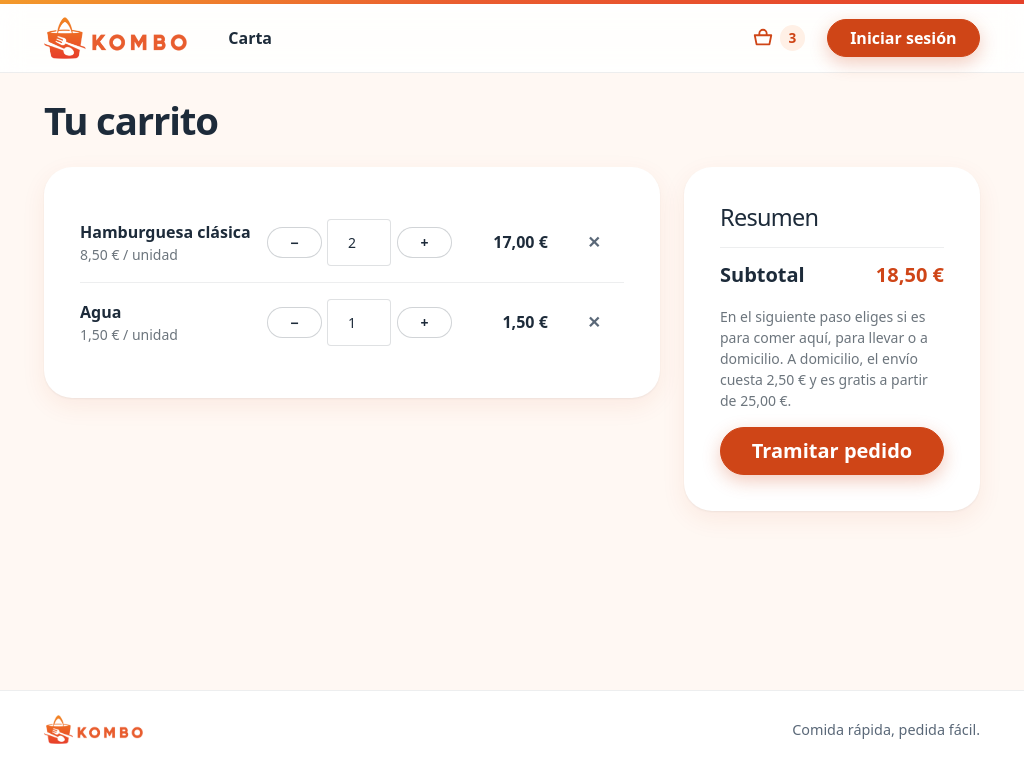
it: CartPage › changes the units and removes products, updating the subtotal
Expected: the text "gratis a partir de" is shown, left=720, top=370, right=928, bottom=410
Step 1. Click the button named "Añadir una unidad de Hamburguesa clásica" → click(424, 242), box left=397, top=227, right=452, bottom=258
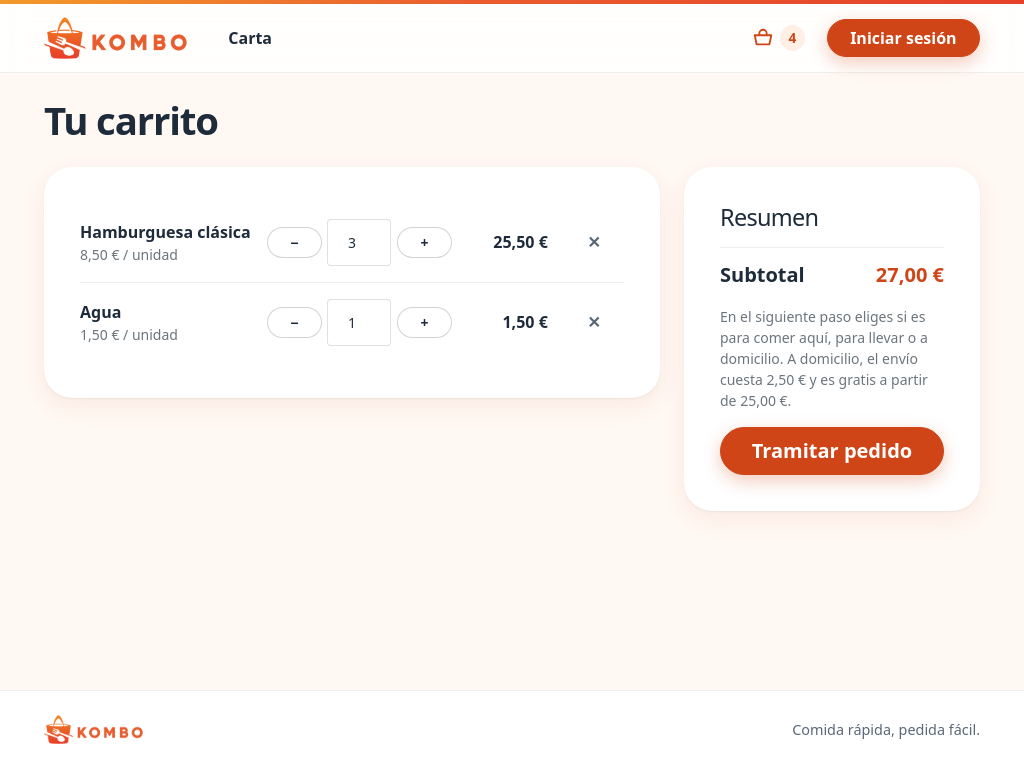
Now the text with test id "cart-count" reads "4", box left=788, top=28, right=796, bottom=47
Step 2. Replace the text in the number field named "Unidades de Agua" with "5" → (359, 322), box left=327, top=299, right=391, bottom=346
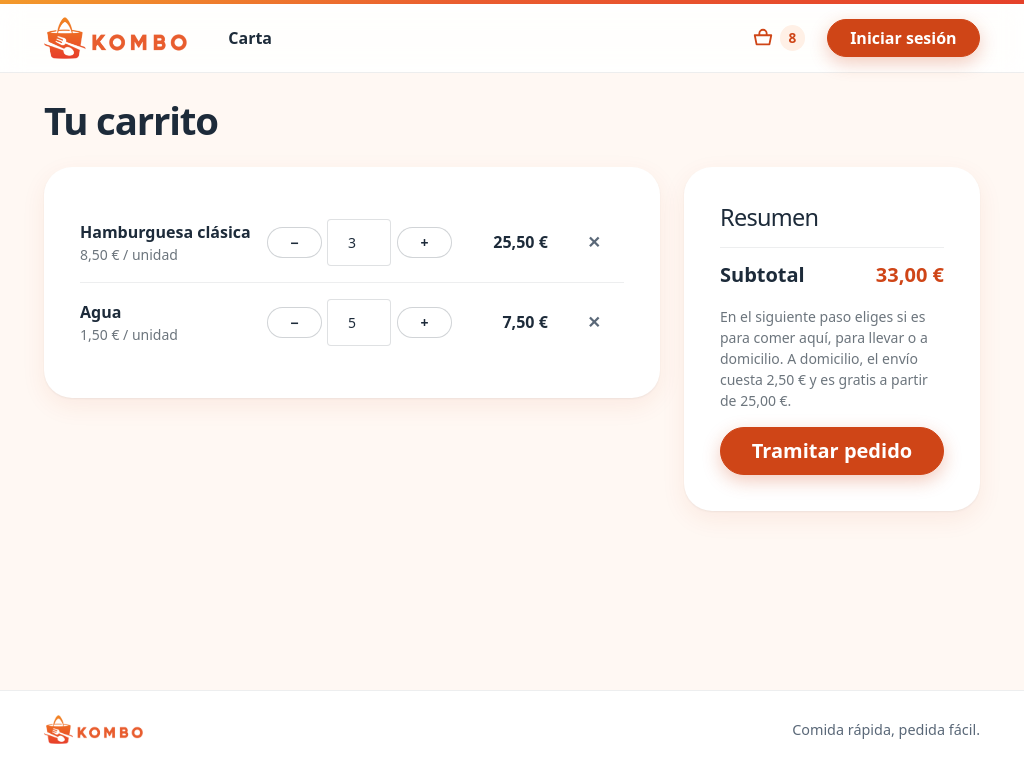
Step 3. Click the button named "Quitar una unidad de Hamburguesa clásica" → click(294, 242), box left=267, top=227, right=322, bottom=258
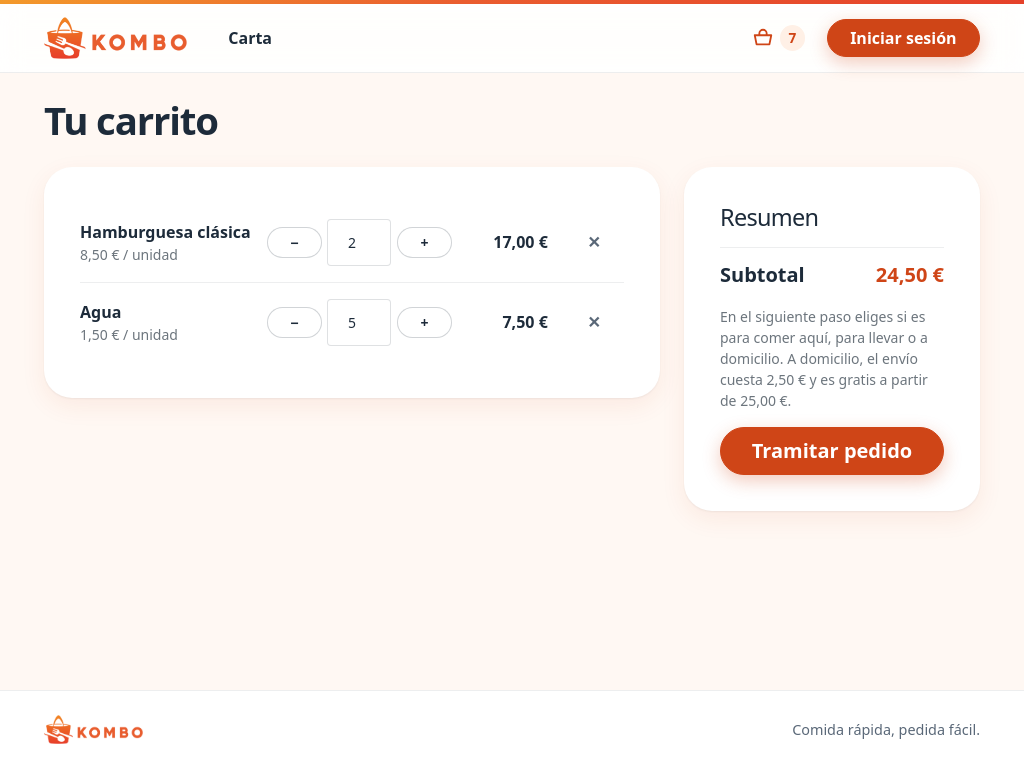
Step 4. Click the button named "Eliminar Agua del carrito" → click(594, 322), box left=564, top=303, right=624, bottom=341
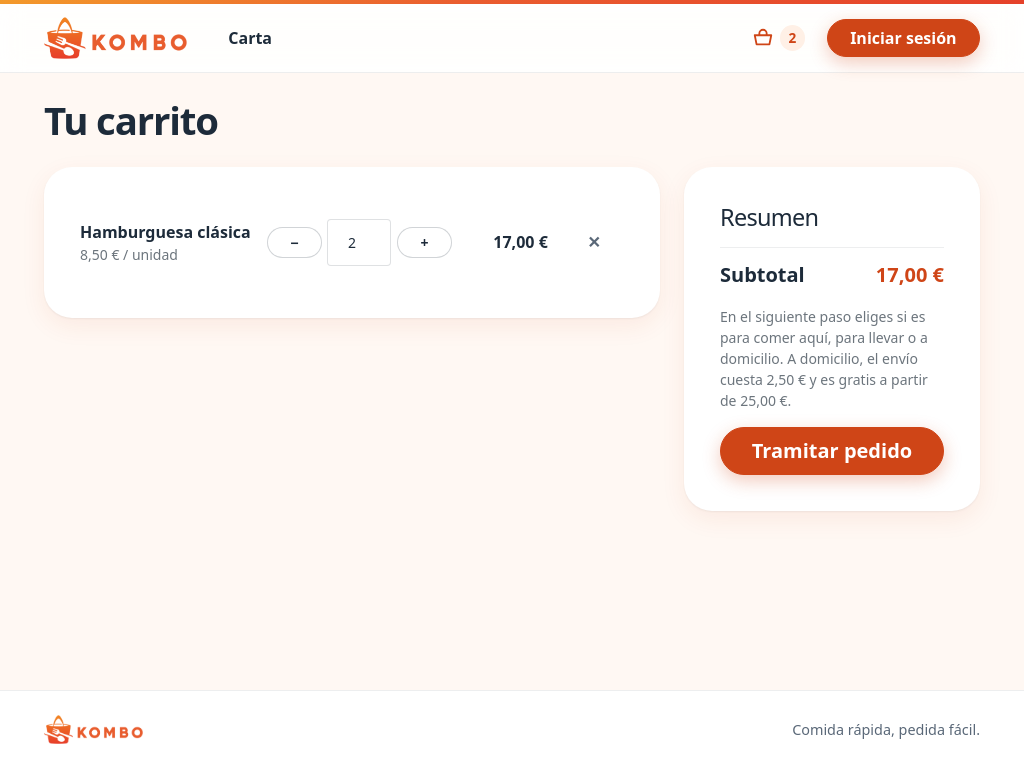
Now the link "Agua" is gone
